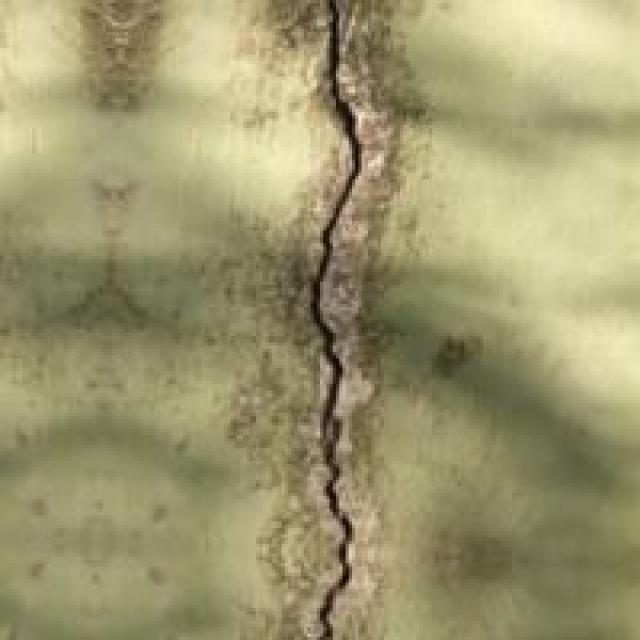crack: (256, 0, 525, 637)
